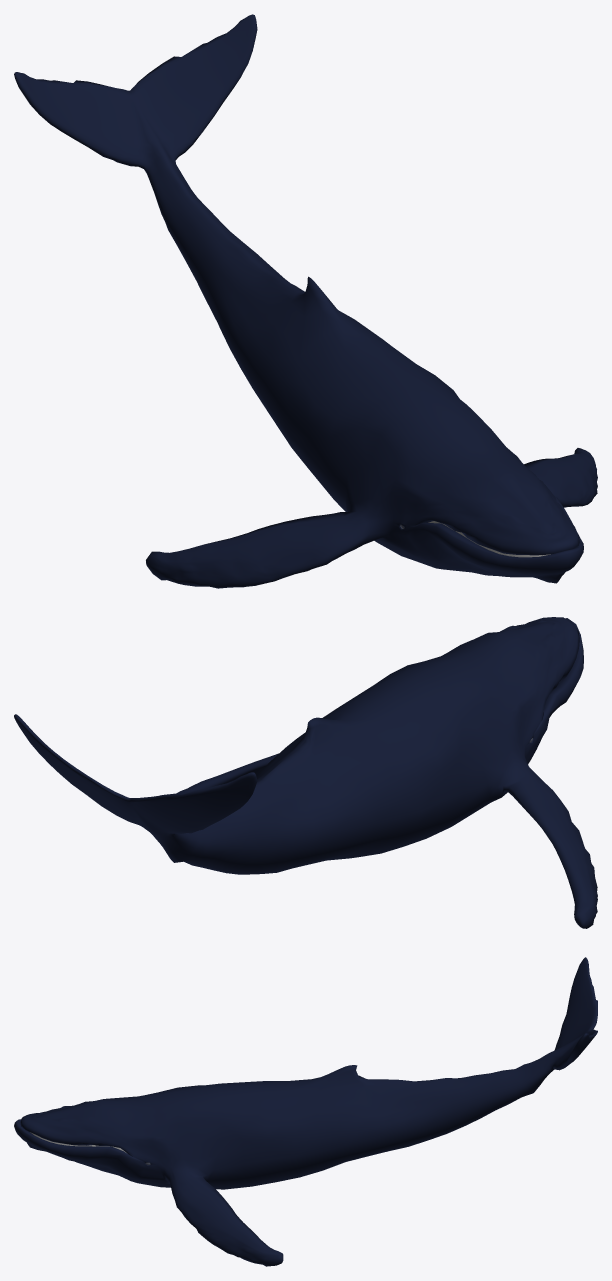
Rendered from whale_animation02.obj.
3 views of the same model, one above another, from view 1: azimuth 30°, elevation 25°; view 2: azimuth 150°, elevation 25°; view 3: azimuth 270°, elevation 25° (orthographic). The views are drawn at different scales.
Visible parts, largest first — view 1: Whale; view 2: Whale; view 3: Whale.
Part boxes in pixels (left/top/right/bottom): Whale: left=14, top=14, right=597, bottom=588; Whale: left=14, top=617, right=597, bottom=928; Whale: left=14, top=957, right=597, bottom=1266.
Size of the model in its own units: 10.19 by 6.78 by 17.77.
